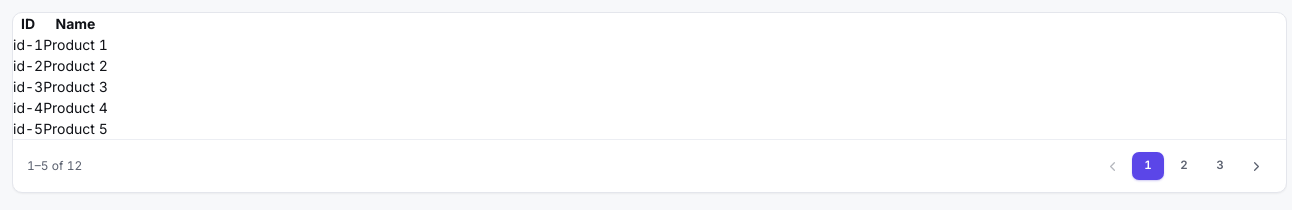
Test case: DataTable › slices rows cleanly for client-side pagination inside a scroll container
Expected: the element showing "1–5 of 12 1 2 3" is shown, [13, 139, 1286, 192]
Expected: the text "1–5 of 12" is shown, [27, 157, 82, 175]
Click the button "2".
click(1184, 166)  # box [1168, 152, 1200, 180]
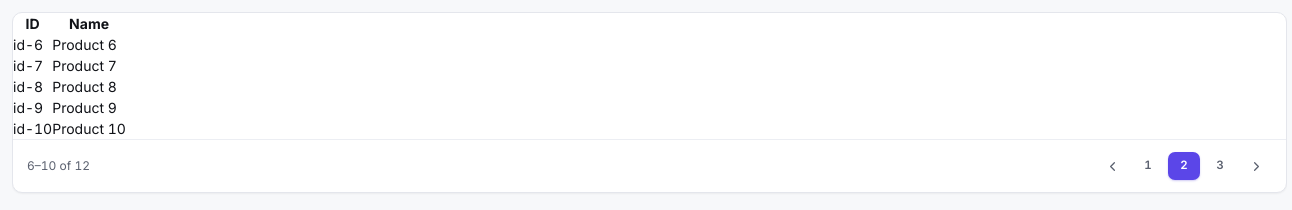
Expected: the text "6–10 of 12" is shown, [27, 157, 90, 175]
Expected: the text "Product 6" is shown, [52, 34, 126, 55]
Click the button "3".
click(1220, 166)  # box [1204, 152, 1236, 180]
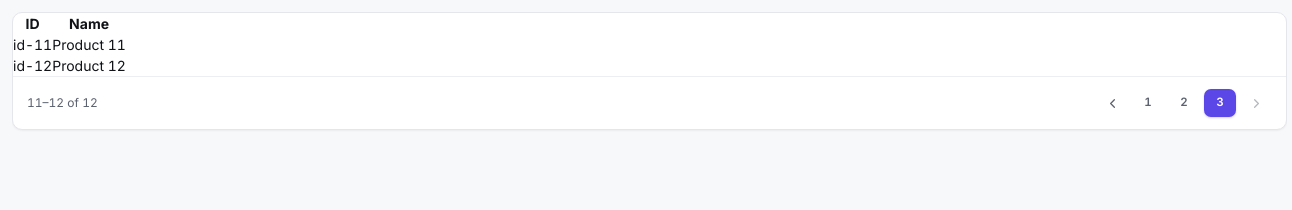
Expected: the text "11–12 of 12" is shown, [27, 94, 98, 112]
Expected: the text "Product 12" is shown, [52, 55, 126, 76]
